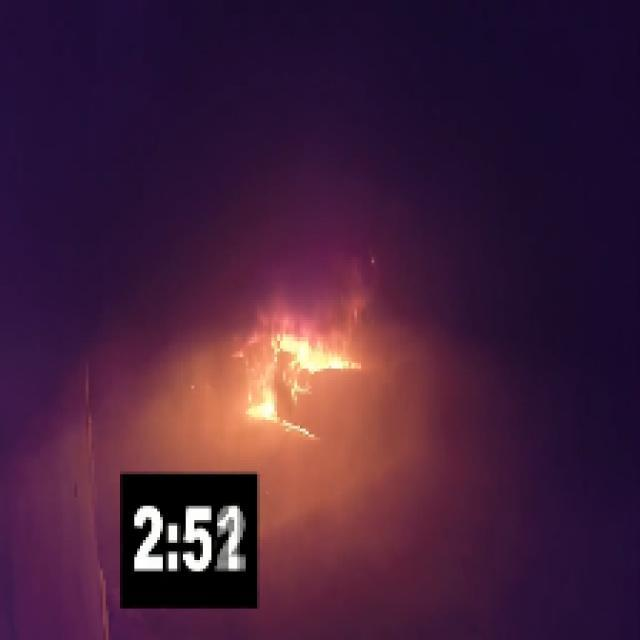Fire: (240, 317, 366, 434)
Smoke: (175, 157, 412, 303)
